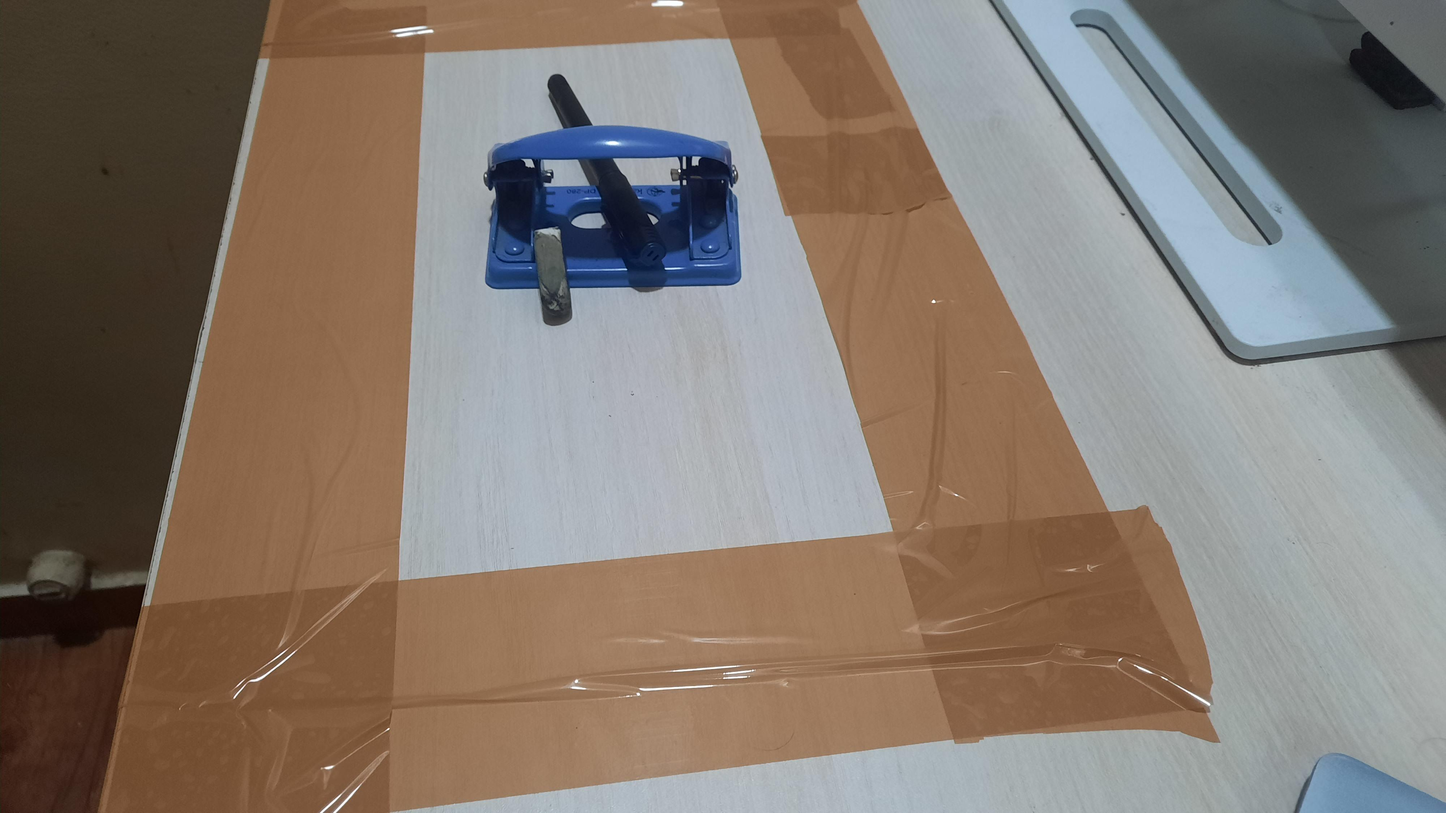Eraser: (534, 227, 573, 326)
Pen: (547, 73, 667, 269)
Punch: (484, 125, 742, 290)
